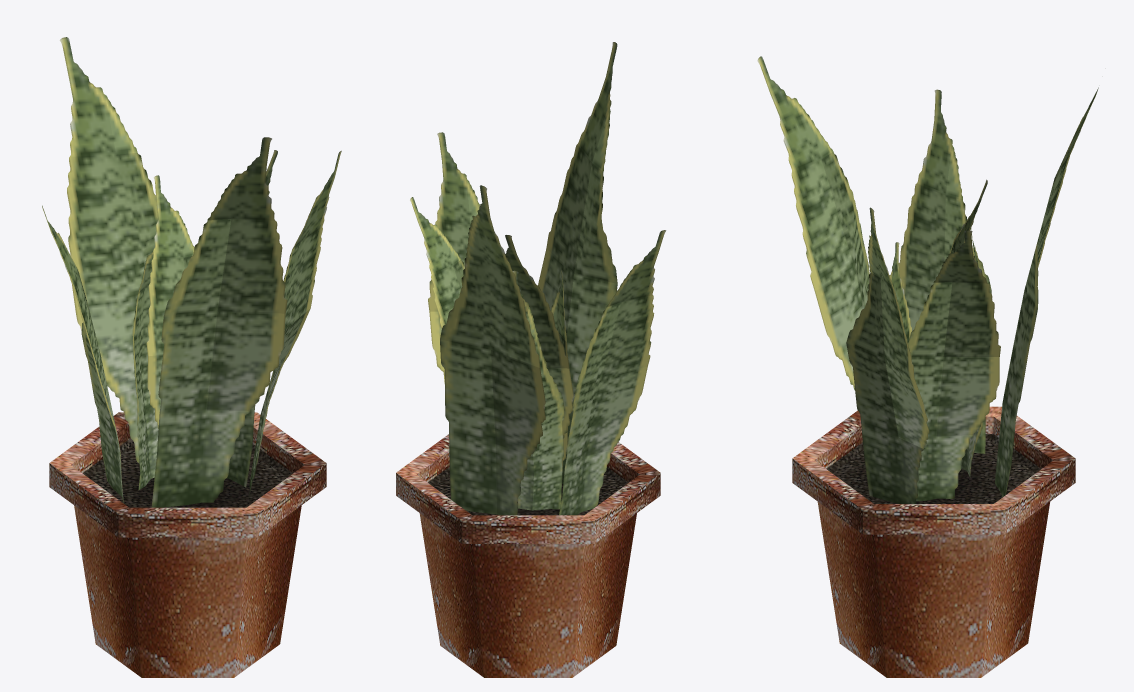
File: Macetapequeña1.fbx
3 renders of one model, left to right at view 1: azimuth 30°, elevation 25°; view 2: azimuth 150°, elevation 25°; view 3: azimuth 270°, elevation 25°, orthographic. The views are drawn at different scales.
Visible parts, largest first — view 1: sanseveria.001; view 2: sanseveria.001; view 3: sanseveria.001.
Boxes of the visible parts, left/top/right/bottom form: sanseveria.001: left=42, top=37, right=341, bottom=677; sanseveria.001: left=396, top=42, right=666, bottom=677; sanseveria.001: left=757, top=56, right=1098, bottom=677.
Bounding box in the file's own units: 62.66 × 110 × 65.43.
Materials: 2 (2 with a texture image).
